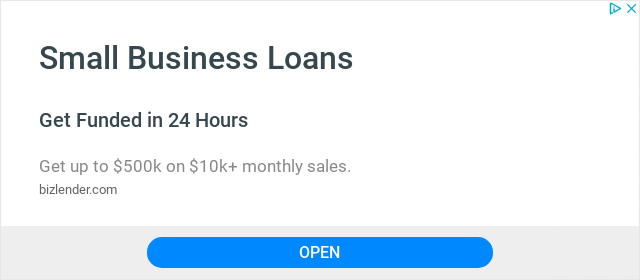fake_button: (137, 233, 496, 279)
